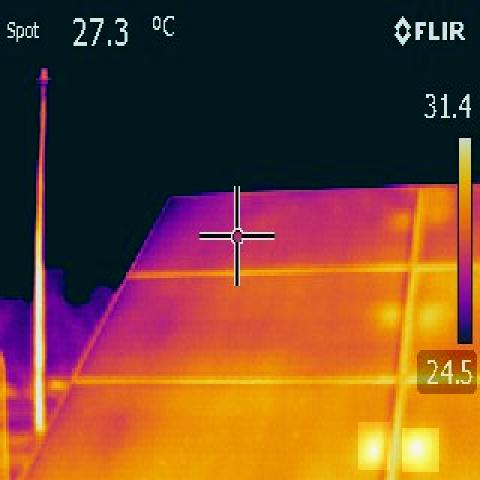fault: (402, 428, 439, 472), (358, 422, 390, 470)
